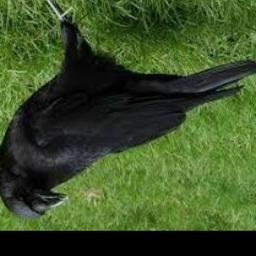Crow: (0, 19, 256, 219)
